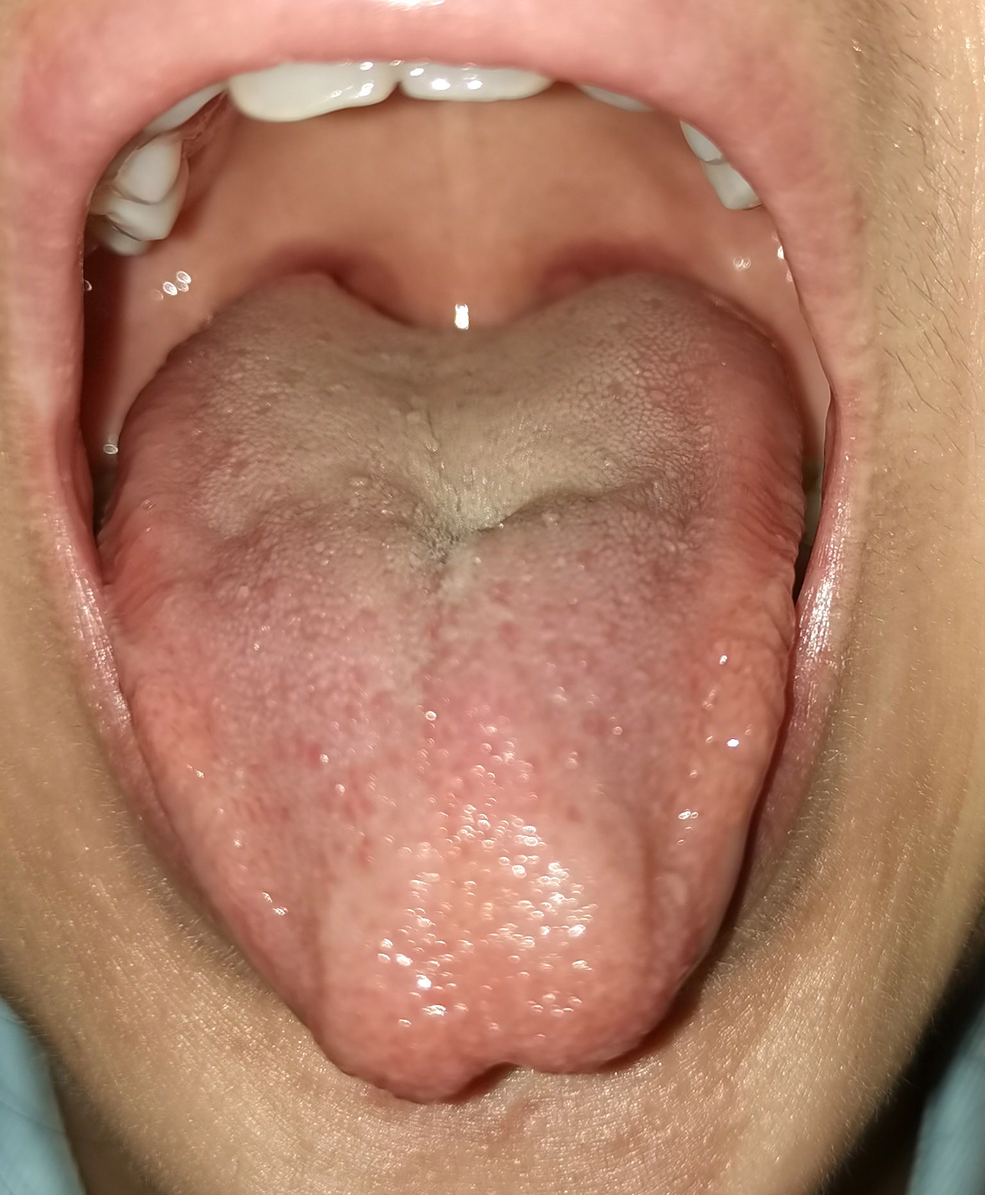baitaishe: (103, 272, 801, 1106)
piweiao: (296, 410, 642, 582)
shenquao: (301, 272, 619, 364)
xinfeiao: (406, 1017, 589, 1105)
